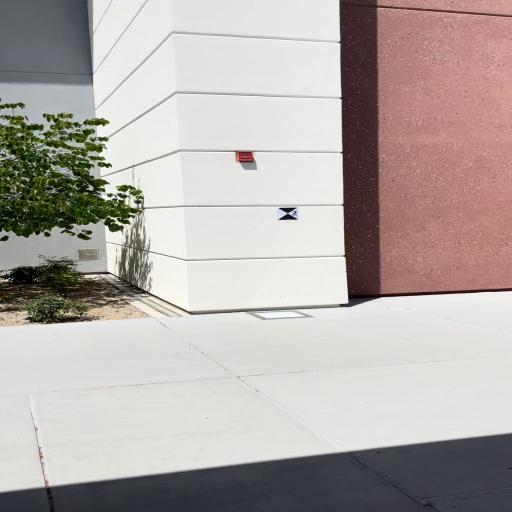target2: (278, 207, 300, 220)
